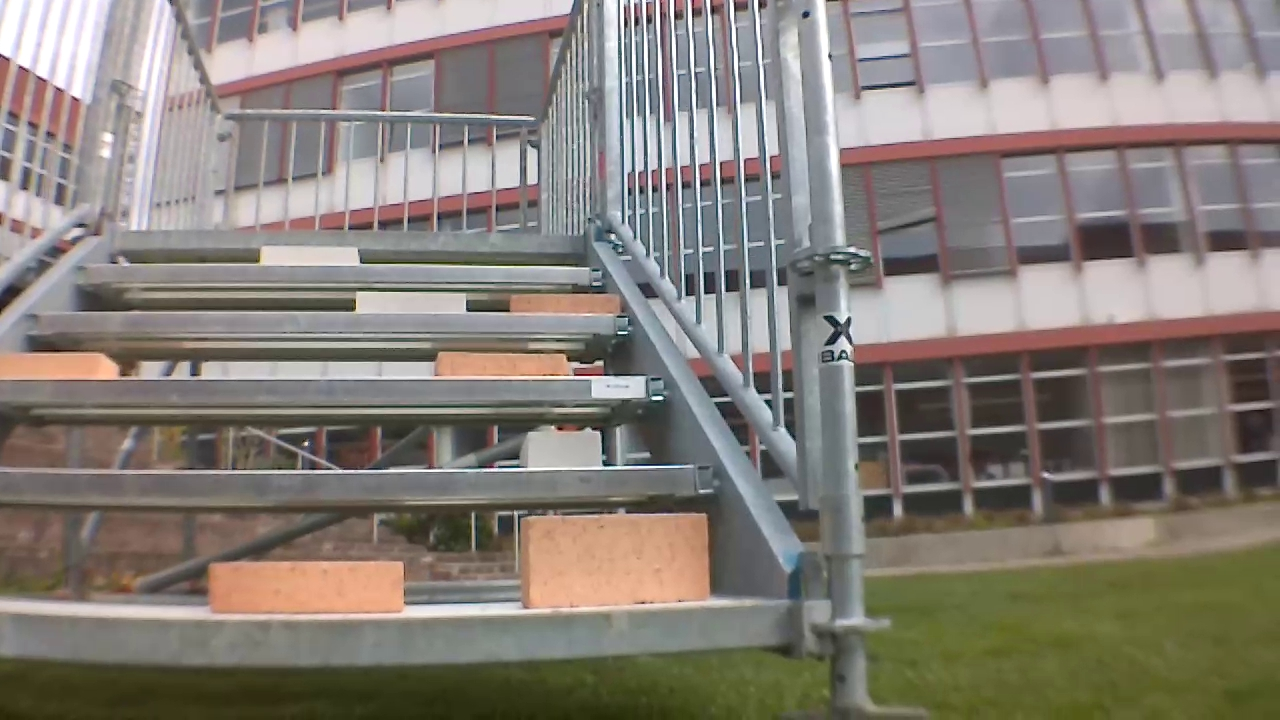brick: (517, 504, 725, 608), (201, 548, 411, 619), (431, 347, 576, 382), (519, 426, 600, 475), (506, 290, 628, 315), (354, 290, 476, 315), (0, 355, 111, 382), (259, 245, 357, 267)
edge: (0, 364, 677, 407), (0, 457, 725, 496), (14, 310, 650, 337), (70, 265, 619, 288), (81, 234, 585, 252)
stairs: (0, 0, 874, 714)
steps: (0, 234, 813, 654)
